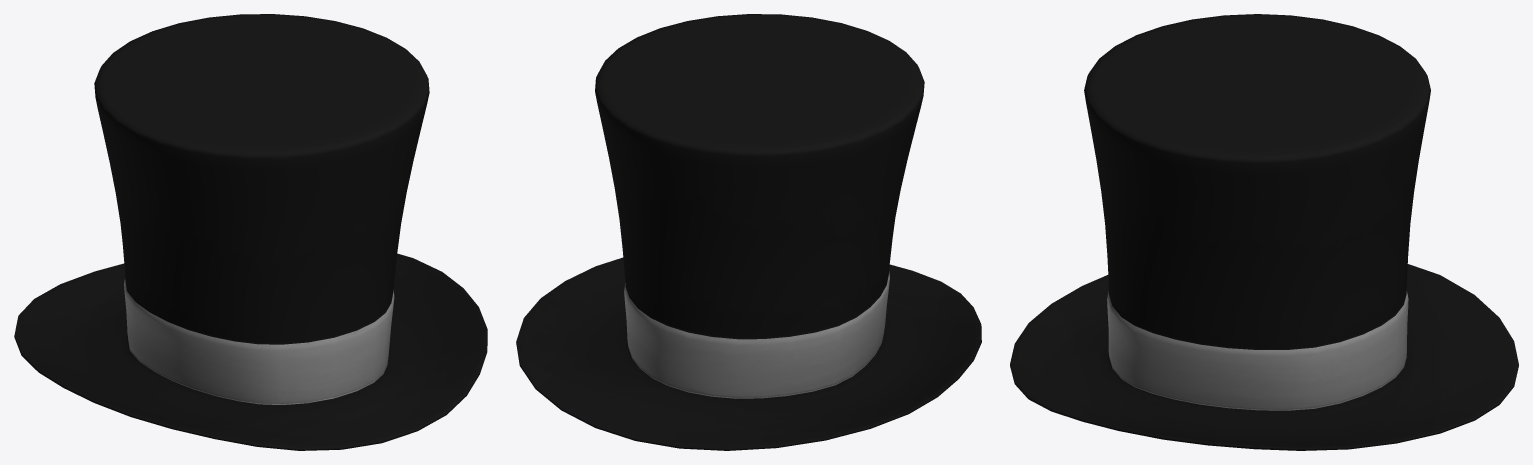
The model's file is MagicianHat.fbx.
3 views of the same model, side by side, from view 1: azimuth 30°, elevation 25°; view 2: azimuth 150°, elevation 25°; view 3: azimuth 270°, elevation 25° (orthographic). The views are drawn at different scales.
Parts seen in each view (by area): view 1: MagicianHat; view 2: MagicianHat; view 3: MagicianHat.
Part boxes in pixels (bbox=[...]): MagicianHat: bbox=[14, 14, 487, 450]; MagicianHat: bbox=[516, 14, 981, 450]; MagicianHat: bbox=[1010, 14, 1518, 450].
Size of the model in its own units: 40.93 by 26.51 by 43.26.
